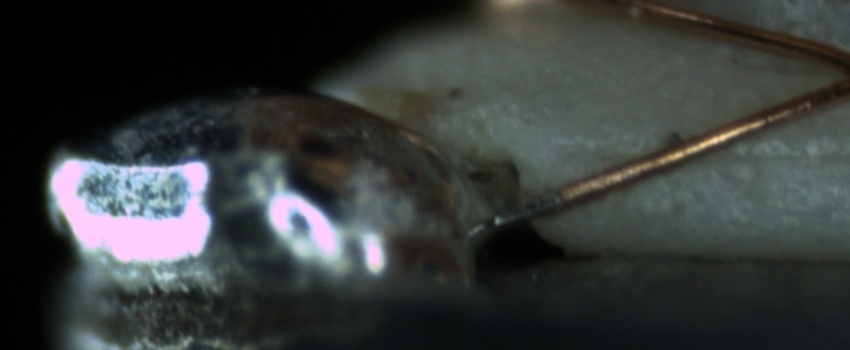DL: (564, 123, 850, 184)
TS: (481, 195, 558, 229)
